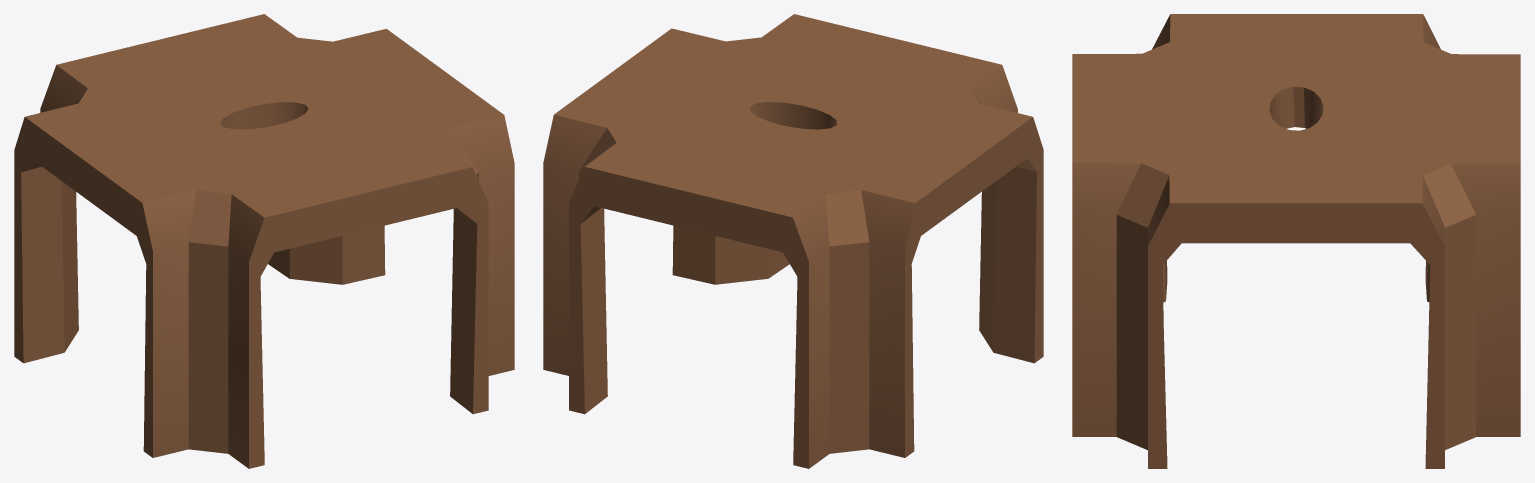
File: Bath Stool.fbx
3 views of the same model, side by side, from view 1: azimuth 30°, elevation 25°; view 2: azimuth 150°, elevation 25°; view 3: azimuth 270°, elevation 25° (orthographic). The views are drawn at different scales.
Parts seen in each view (by area): view 1: Bath stool; view 2: Bath stool; view 3: Bath stool.
Part boxes in pixels (left/top/right/bottom): Bath stool: left=14, top=14, right=514, bottom=468; Bath stool: left=543, top=14, right=1043, bottom=468; Bath stool: left=1072, top=14, right=1520, bottom=468.
Size of the model in its own units: 69.32 by 45.32 by 69.32.
